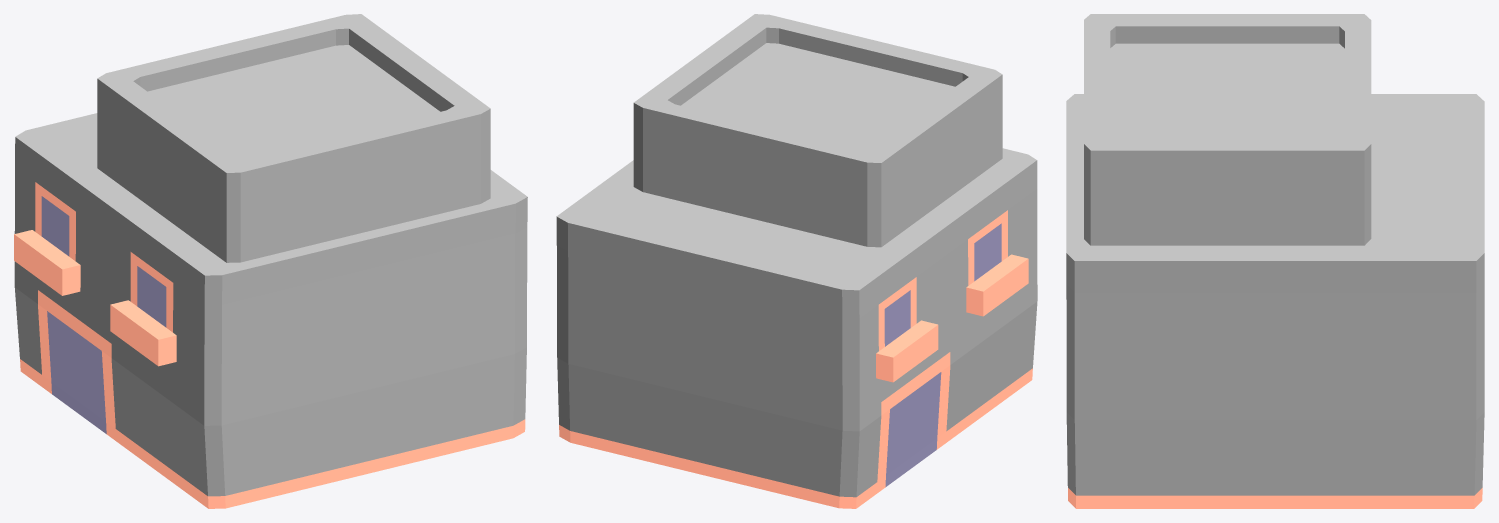
Rendered from beach_house01.fbx.
3 renders of one model, left to right at view 1: azimuth 30°, elevation 25°; view 2: azimuth 150°, elevation 25°; view 3: azimuth 270°, elevation 25°, orthographic. The views are drawn at different scales.
Visible parts, largest first — view 1: house_base, house_frames, house_opening; view 2: house_base, house_frames, house_opening; view 3: house_base, house_frames.
Part boxes in pixels (left/top/right/bottom): house_base: left=14, top=14, right=527, bottom=496; house_frames: left=14, top=182, right=525, bottom=508; house_opening: left=41, top=196, right=166, bottom=433; house_base: left=556, top=14, right=1037, bottom=497; house_frames: left=559, top=210, right=1032, bottom=508; house_opening: left=884, top=223, right=1001, bottom=487; house_base: left=1066, top=14, right=1484, bottom=495; house_frames: left=1068, top=488, right=1482, bottom=508.
Bounding box in the file's own units: 3.75 × 3.41 × 3.76.
